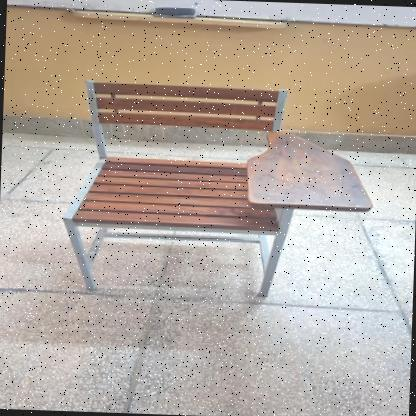chair: (51, 68, 380, 314)
